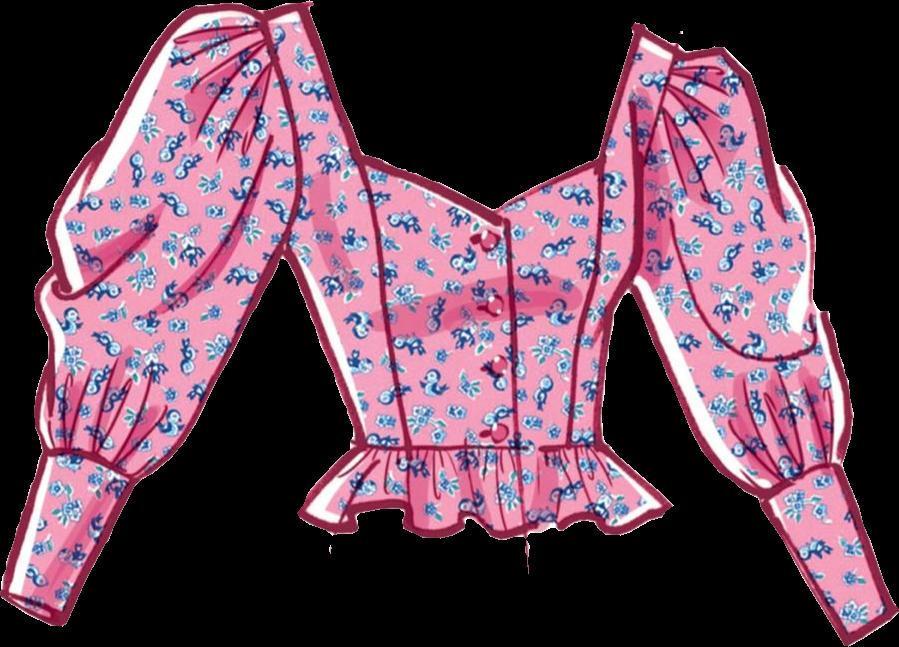Bodice: (250, 0, 690, 551)
Neckline: (301, 3, 640, 218), (355, 438, 604, 456)
Sleeve: (1, 3, 294, 625), (632, 47, 898, 645)
Sleeveline: (628, 51, 684, 286), (255, 10, 304, 241), (755, 459, 843, 505), (41, 446, 135, 487)
Waistline: (297, 494, 670, 538)
